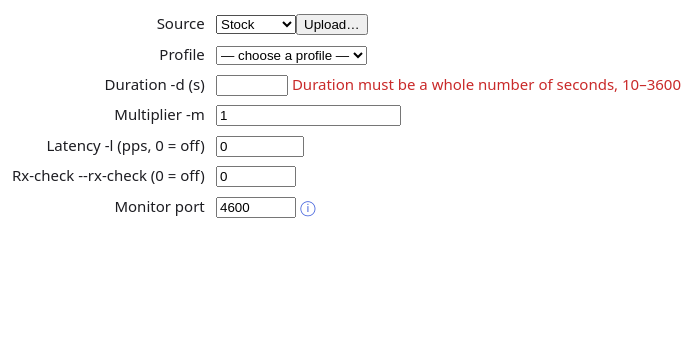
Scenario: StfRunFields › a profile with errors disables Start
Select "cap2/sfr2.yaml" in the dropdown labelled "Profile": point(292, 55) [216,46,367,64]
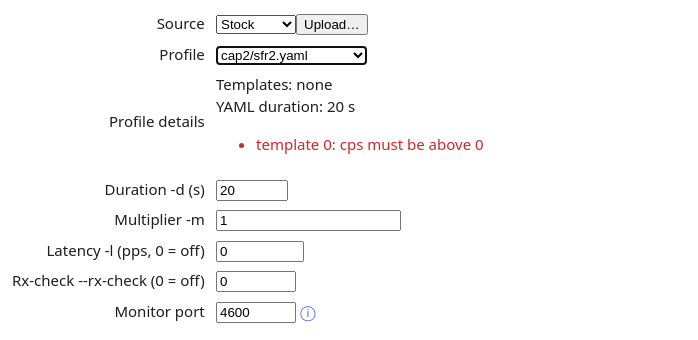
Check: the list named "Profile errors" reads "template 0: cps must be above 0", box [256,134,484,154]
